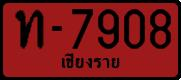letters: (13, 8, 45, 50), (69, 7, 94, 50), (96, 8, 120, 51), (122, 8, 146, 50), (148, 8, 172, 50)
province: (59, 52, 121, 71)
